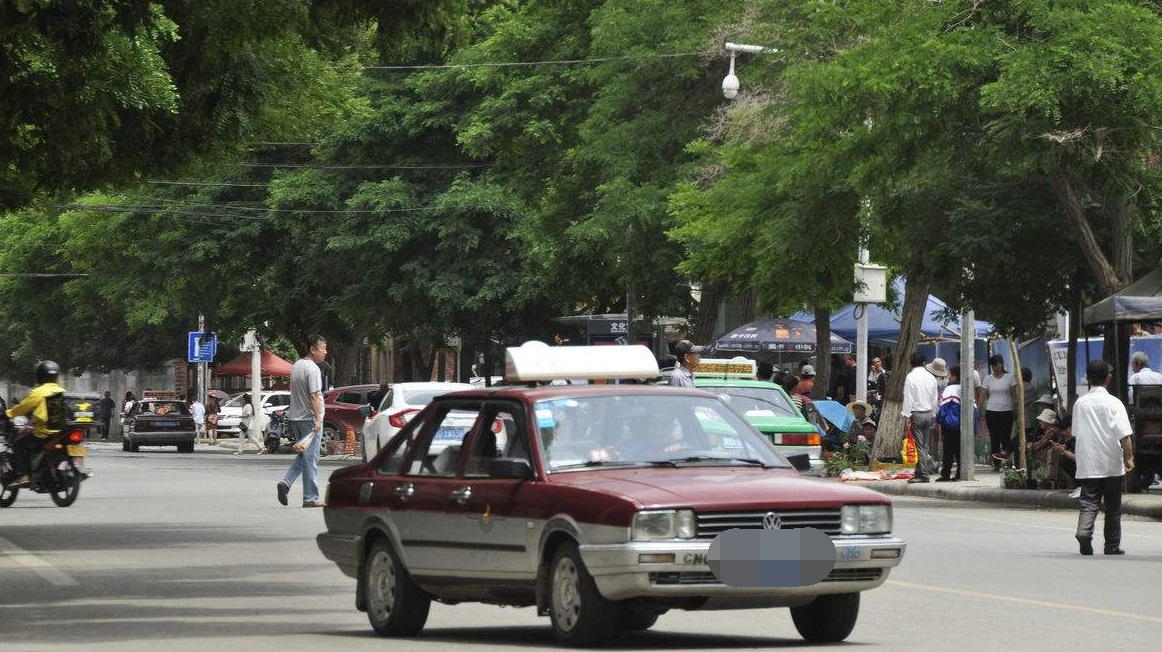taxi: (329, 351, 883, 640)
